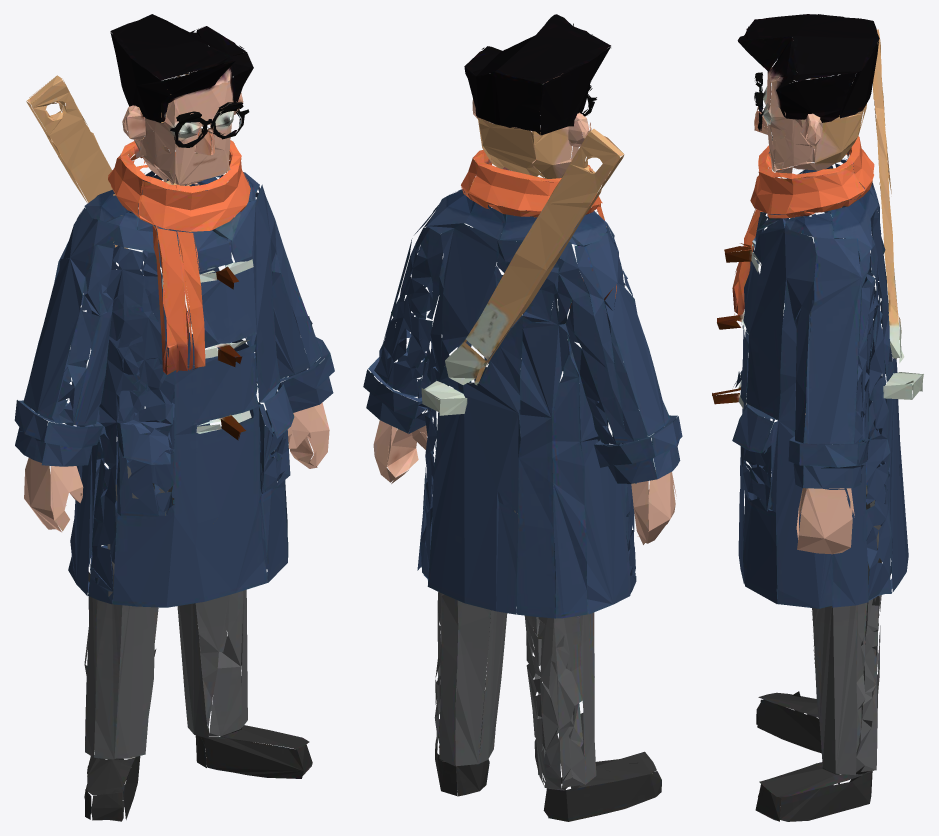
The model's file is habitant.glb.
3 views of the same model, side by side, from view 1: azimuth 30°, elevation 25°; view 2: azimuth 150°, elevation 25°; view 3: azimuth 270°, elevation 25° (orthographic).
Parts seen in each view (by area): view 1: world; view 2: world; view 3: world.
Part boxes in pixels (x1,y1,x2,y2): world: (14,14,334,821); world: (363,14,682,821); world: (712,14,923,821).
Bounding box in the file's own units: 0.4246 × 1 × 0.2615.
1 material, 1 textured.
